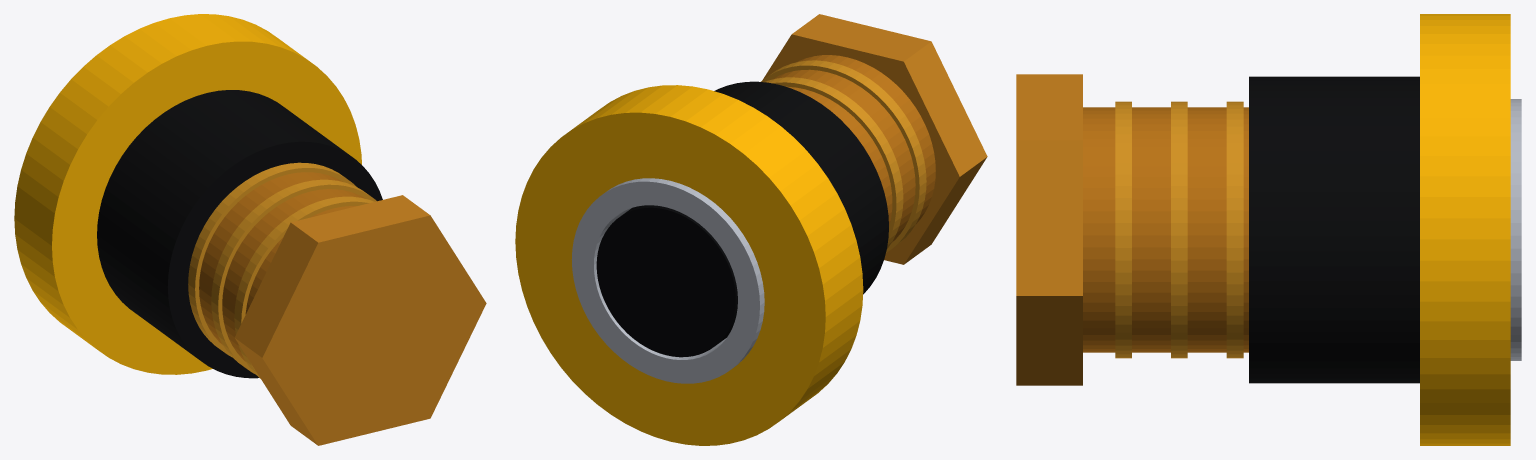
File: JackConnector_Yellow.fbx
The picture shows the model from 3 angles, left to right: view 1: azimuth 30°, elevation 25°; view 2: azimuth 150°, elevation 25°; view 3: azimuth 270°, elevation 25°; orthographic projection. The views are drawn at different scales.
Parts seen in each view (by area): view 1: ColorCollar, HexNut, RearHousing, BrassBarrel, ThreadRidge1, ThreadRidge2, ThreadRidge3; view 2: ColorCollar, Socket, MetalRim, HexNut, RearHousing, BrassBarrel, ThreadRidge3, ThreadRidge2; view 3: RearHousing, ColorCollar, BrassBarrel, HexNut, ThreadRidge1, ThreadRidge2, ThreadRidge3, MetalRim.
Part boxes in pixels (<box>): ColorCollar: <box>14,14,361,374</box>; HexNut: <box>234,195,486,445</box>; RearHousing: <box>97,90,382,378</box>; BrassBarrel: <box>199,172,365,361</box>; ThreadRidge1: <box>188,162,357,357</box>; ThreadRidge2: <box>211,179,376,373</box>; ThreadRidge3: <box>234,196,374,378</box>; ColorCollar: <box>515,85,863,445</box>; Socket: <box>596,205,737,357</box>; MetalRim: <box>571,178,764,383</box>; HexNut: <box>763,14,987,264</box>; RearHousing: <box>714,81,888,294</box>; BrassBarrel: <box>772,55,935,242</box>; ThreadRidge3: <box>761,60,926,252</box>; ThreadRidge2: <box>764,77,903,248</box>; RearHousing: <box>1249,76,1419,383</box>; ColorCollar: <box>1420,14,1510,445</box>; BrassBarrel: <box>1083,107,1248,352</box>; HexNut: <box>1016,74,1082,385</box>; ThreadRidge1: <box>1226,101,1243,358</box>; ThreadRidge2: <box>1171,101,1187,358</box>; ThreadRidge3: <box>1115,101,1131,358</box>; MetalRim: <box>1510,99,1521,360</box>.
Size of the model in its own units: 0.031 by 0.031 by 0.0363.
